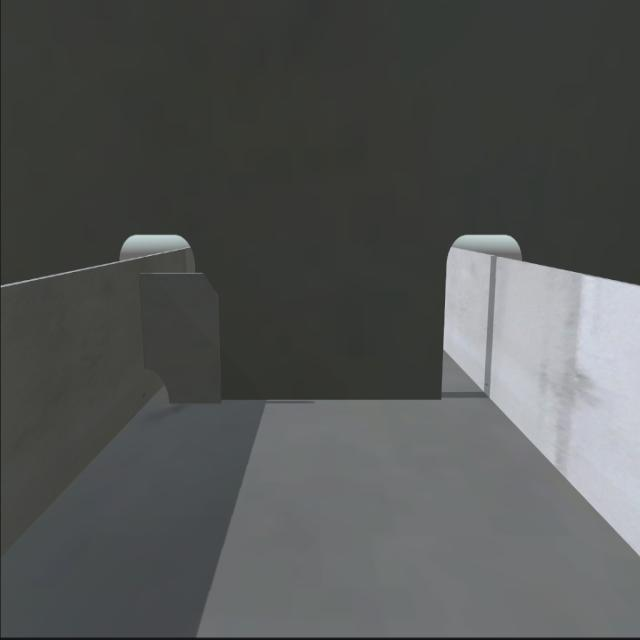fillet_hole: (141, 366, 171, 404)
fillet_yong_jeop_jang: (162, 390, 452, 414)
longi_yong_jeop_jang: (134, 266, 148, 368)
plate_CP03: (140, 272, 222, 406)
